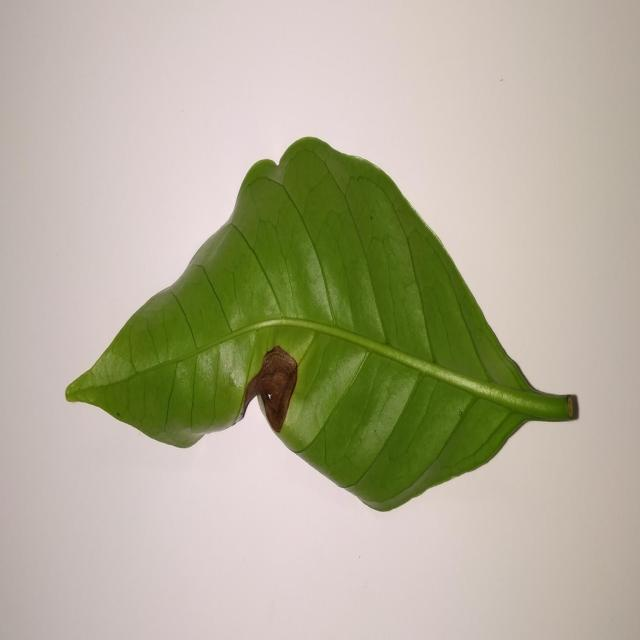Enfermedad-Antracnosis: (63, 137, 580, 516)
